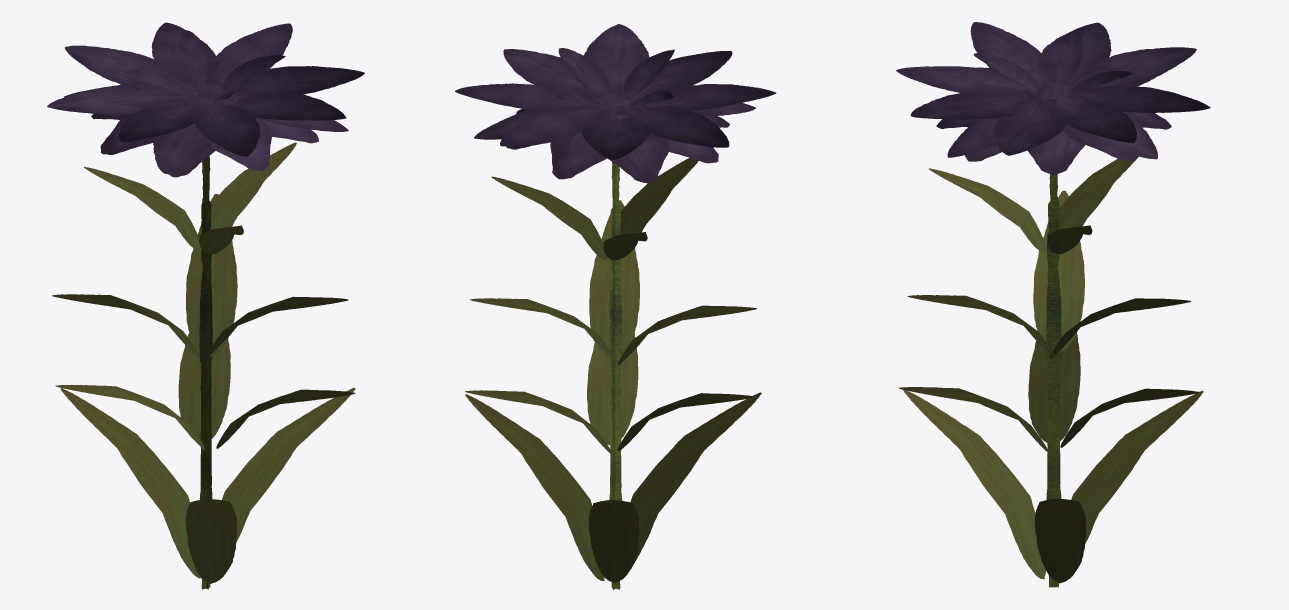
Rendered from SM_Lounge_Foliage_09.fbx.
The picture shows the model from 3 angles, left to right: view 1: azimuth 30°, elevation 25°; view 2: azimuth 150°, elevation 25°; view 3: azimuth 270°, elevation 25°; orthographic projection.
Parts seen in each view (by area): view 1: SM_Lounge_Floiage_09; view 2: SM_Lounge_Floiage_09; view 3: SM_Lounge_Floiage_09.
Boxes of the visible parts, box(x1,y1,x2,y2) form: SM_Lounge_Floiage_09: box(47, 22, 364, 589); SM_Lounge_Floiage_09: box(455, 24, 776, 589); SM_Lounge_Floiage_09: box(896, 22, 1210, 587).
Bounding box in the file's own units: 22.93 × 30.18 × 22.93.
Materials: 1 (1 with a texture image).
